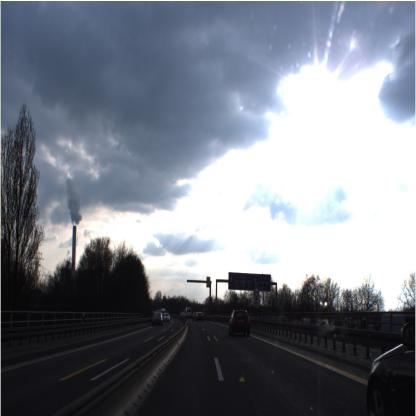no overtaking trucks: (253, 285, 260, 297)
